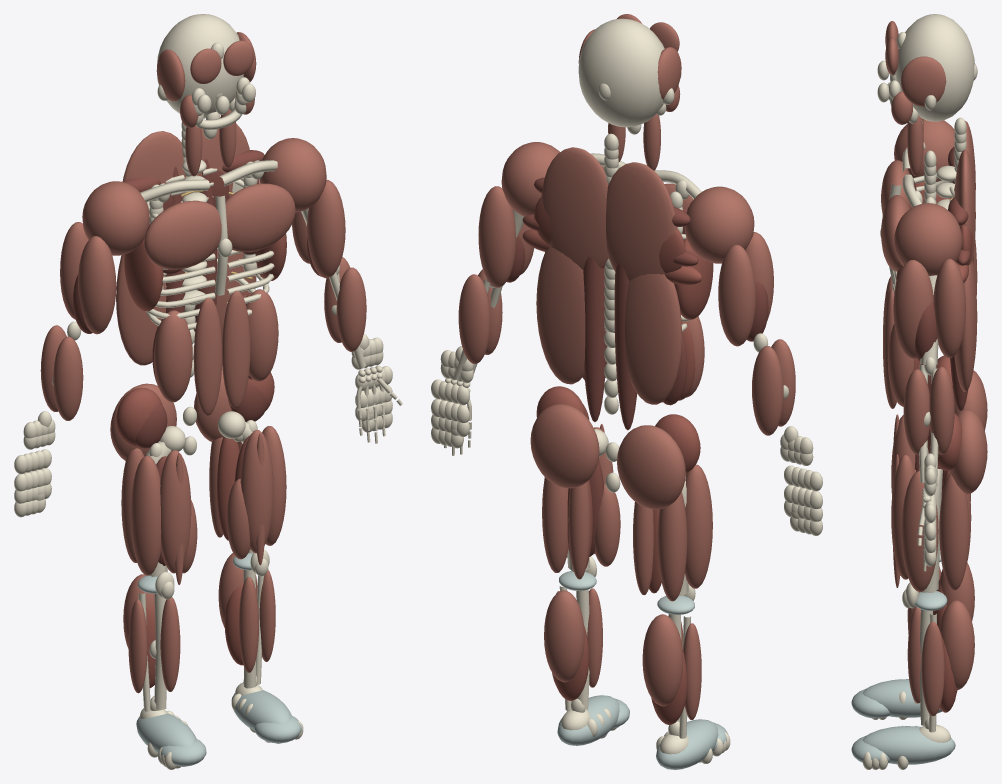
The model's file is muscular-body.glb.
3 views of the same model, side by side, from view 1: azimuth 30°, elevation 25°; view 2: azimuth 150°, elevation 25°; view 3: azimuth 270°, elevation 25° (orthographic). The views are drawn at different scales.
Visible parts, largest first — view 1: dev-pectoralis-major-right, dev-pectoralis-major-left, dev-deltoid-right, skull-73, dev-deltoid-left, dev-vastus-lateralis-right, dev-biceps-brachii-right, dev-rectus-femoris-right, dev-biceps-brachii-left, dev-external-oblique-right, dev-rectus-femoris-left, dev-rectus-abdominis-right (+44 smaller); view 2: skull-73, dev-trapezius-right, dev-latissimus-dorsi-right, dev-trapezius-left, dev-latissimus-dorsi-left, dev-gluteus-maximus-left, dev-gluteus-maximus-right, dev-deltoid-right, dev-triceps-brachii-right, dev-erector-spinae-left, dev-triceps-brachii-left, dev-gastrocnemius-left (+29 smaller); view 3: skull-73, dev-deltoid-left, dev-biceps-femoris-left, dev-biceps-brachii-left, dev-triceps-brachii-left, dev-vastus-lateralis-left, foot-34, dev-gastrocnemius-left, dev-gluteus-maximus-left, dev-fibularis-left, dev-forearm-flexors-left, dev-forearm-extensors-left (+35 smaller).
Boxes of the visible parts, left/top/right/bottom form: dev-pectoralis-major-right: left=144, top=200, right=221, bottom=269; dev-pectoralis-major-left: left=225, top=183, right=295, bottom=252; dev-deltoid-right: left=82, top=181, right=149, bottom=255; skull-73: left=156, top=14, right=243, bottom=118; dev-deltoid-left: left=259, top=138, right=326, bottom=212; dev-vastus-lateralis-right: left=130, top=455, right=161, bottom=575; dev-biceps-brachii-right: left=78, top=236, right=116, bottom=334; dev-rectus-femoris-right: left=160, top=450, right=191, bottom=573; dev-biceps-brachii-left: left=307, top=179, right=345, bottom=278; dev-external-oblique-right: left=154, top=310, right=192, bottom=402; dev-rectus-femoris-left: left=240, top=430, right=273, bottom=553; dev-rectus-abdominis-right: left=193, top=297, right=222, bottom=415; skull-73: left=578, top=18, right=664, bottom=127; dev-trapezius-right: left=606, top=162, right=676, bottom=280; dev-latissimus-dorsi-right: left=624, top=273, right=681, bottom=404; dev-trapezius-left: left=541, top=147, right=608, bottom=269; dev-latissimus-dorsi-left: left=536, top=246, right=585, bottom=384; dev-gluteus-maximus-left: left=530, top=404, right=599, bottom=488; dev-gluteus-maximus-right: left=617, top=425, right=685, bottom=509; dev-deltoid-right: left=684, top=186, right=754, bottom=263; dev-triceps-brachii-right: left=718, top=244, right=755, bottom=346; dev-erector-spinae-left: left=583, top=257, right=607, bottom=421; dev-triceps-brachii-left: left=478, top=186, right=515, bottom=287; dev-gastrocnemius-left: left=544, top=590, right=584, bottom=682; skull-73: left=895, top=14, right=974, bottom=121; dev-deltoid-left: left=894, top=203, right=962, bottom=275; dev-biceps-femoris-left: left=939, top=473, right=969, bottom=590; dev-biceps-brachii-left: left=893, top=260, right=933, bottom=358; dev-triceps-brachii-left: left=933, top=258, right=965, bottom=357; dev-vastus-lateralis-left: left=901, top=471, right=938, bottom=591; foot-34: left=862, top=726, right=955, bottom=764; dev-gastrocnemius-left: left=939, top=600, right=974, bottom=690; dev-gluteus-maximus-left: left=949, top=409, right=987, bottom=494; dev-fibularis-left: left=921, top=622, right=944, bottom=716; dev-forearm-flexors-left: left=903, top=369, right=929, bottom=454; dev-forearm-extensors-left: left=929, top=366, right=954, bottom=454.
Size of the model in its own units: 3.25 by 5.83 by 0.992.
